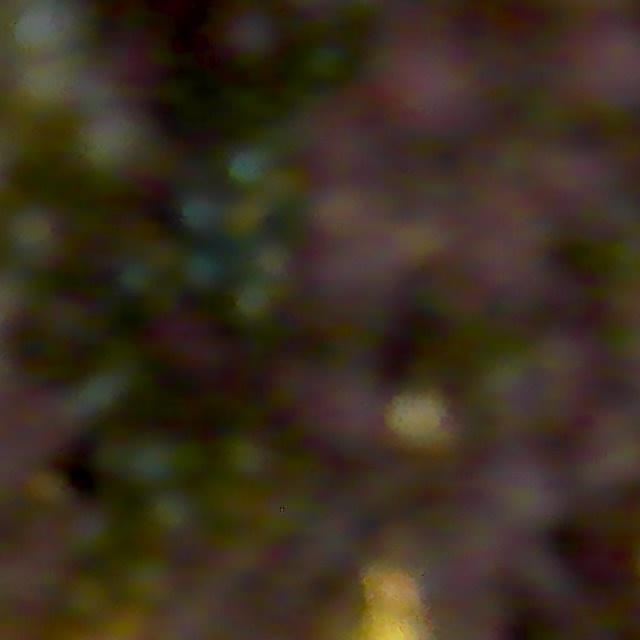SeaGrape: (344, 26, 504, 146), (285, 346, 410, 479), (297, 208, 414, 346), (435, 191, 548, 320), (560, 30, 640, 143), (75, 105, 164, 189), (0, 203, 67, 270), (218, 5, 282, 67), (145, 488, 205, 546), (60, 502, 119, 560), (124, 556, 180, 612), (61, 573, 114, 628)
